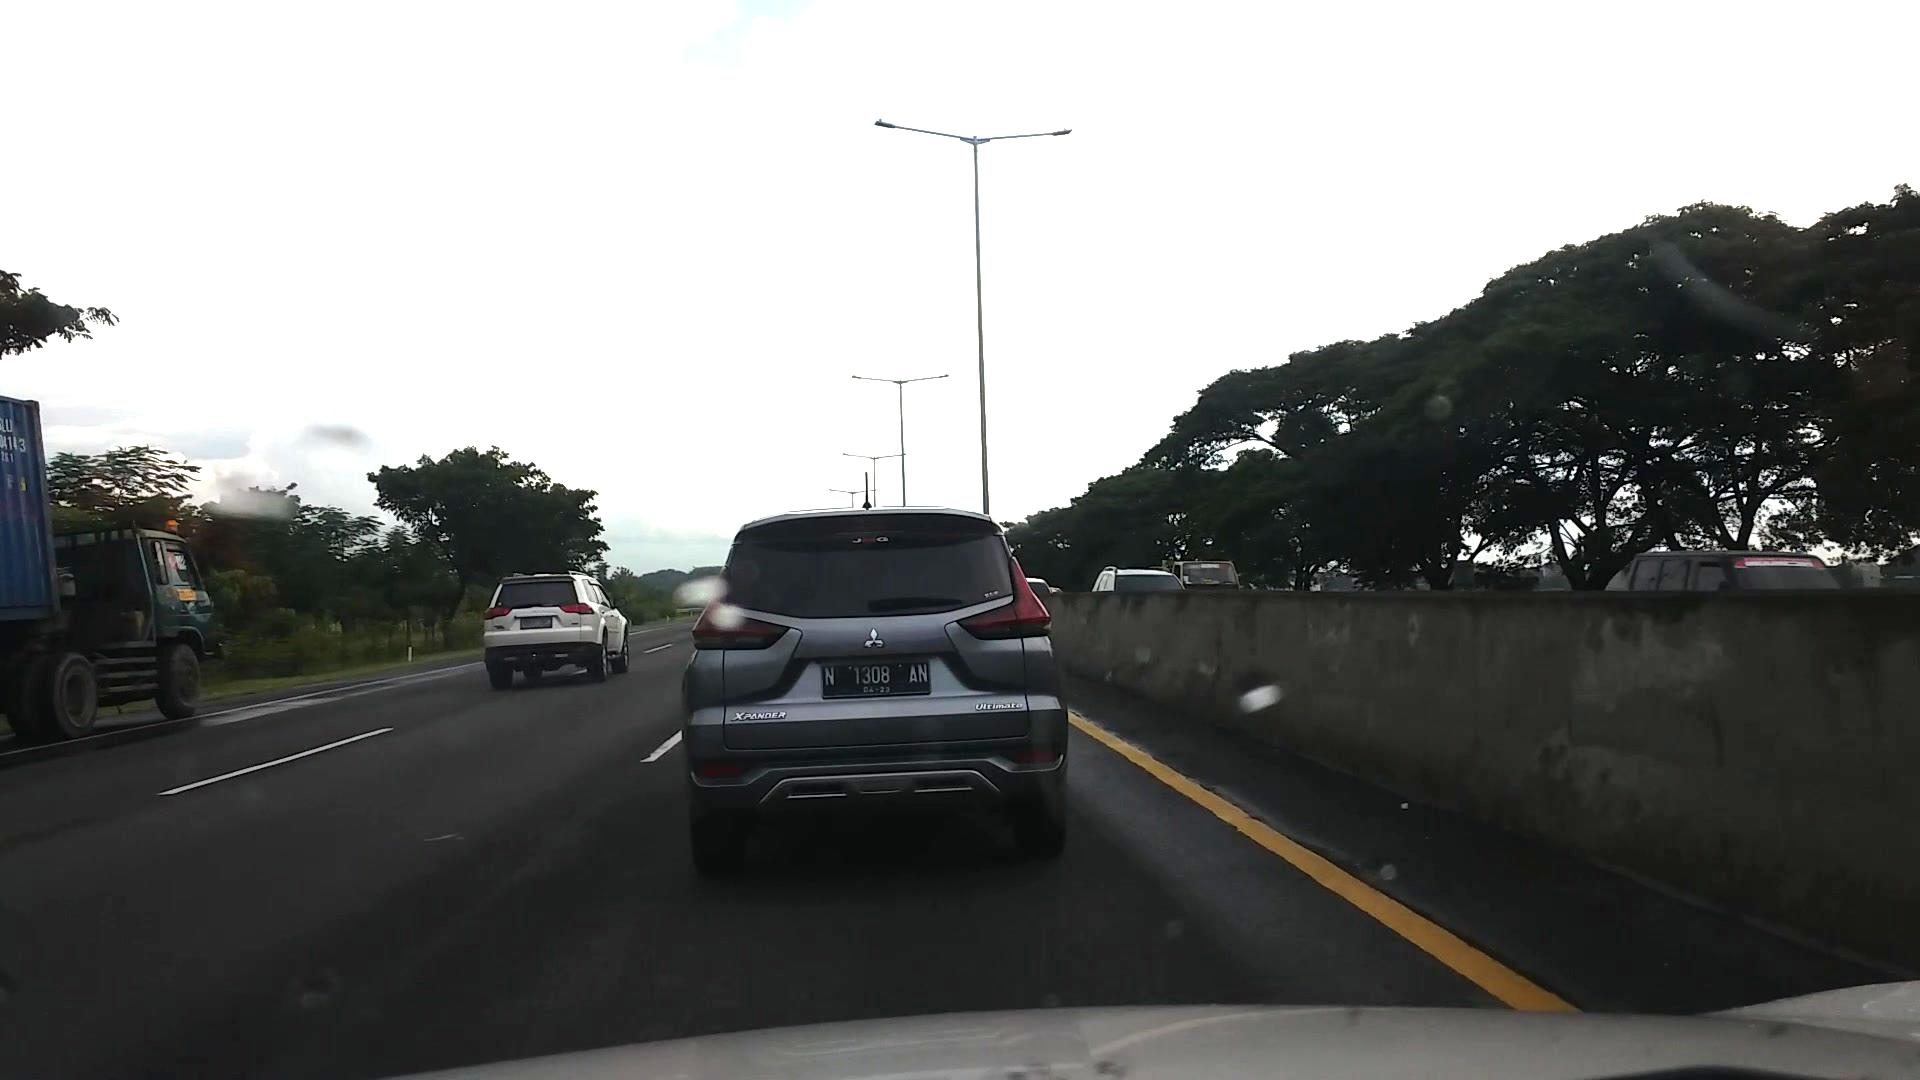plate_positive: (822, 661, 928, 696)
